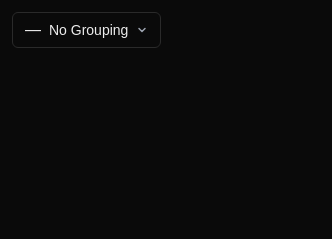
Test: GroupSelector › closes dropdown on Escape key
Click the button with aria-label "group by options" at [87, 30], box [12,12,161,48]
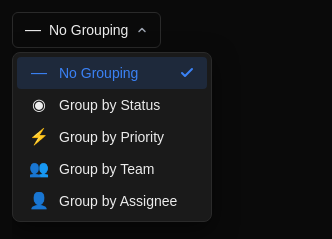
Now the list is shown, box [12,52,212,222]
Press Escape
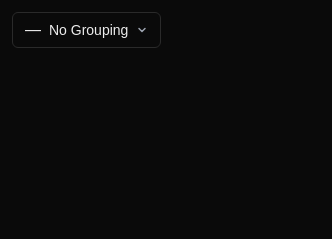
Now the list is gone
